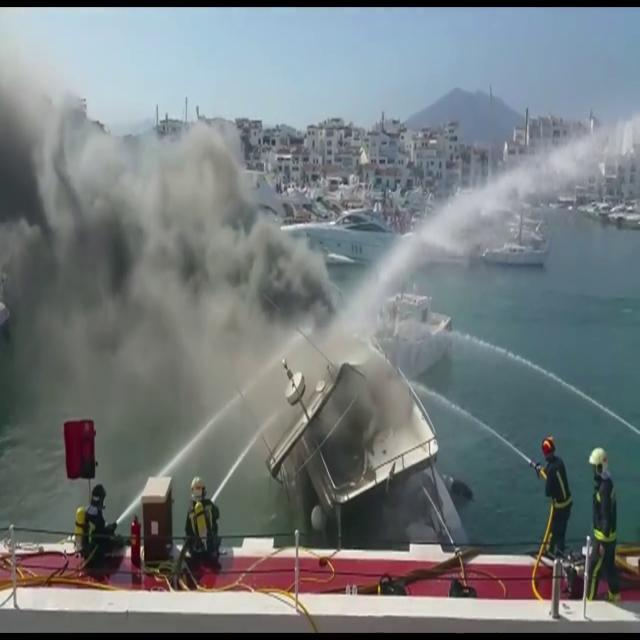Smoke: (0, 42, 336, 480)
